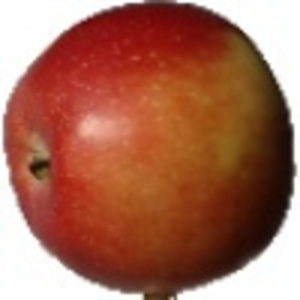maçã braeburn: (1, 4, 299, 294)
